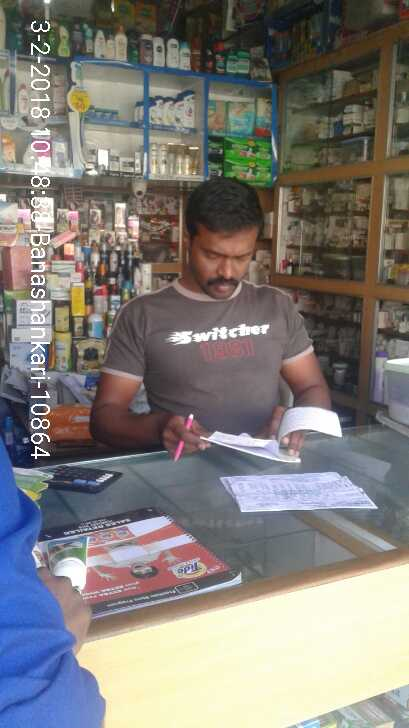beauty: (184, 90, 196, 127), (189, 144, 200, 179), (149, 142, 160, 174), (121, 155, 137, 176), (160, 142, 170, 174), (109, 148, 121, 174), (164, 97, 175, 124), (154, 94, 163, 125), (174, 101, 184, 128), (135, 151, 141, 176)
pharmacy: (227, 101, 256, 137), (224, 137, 258, 161), (257, 99, 275, 137), (224, 160, 255, 182), (254, 138, 273, 162), (209, 101, 223, 133), (257, 162, 273, 185)
